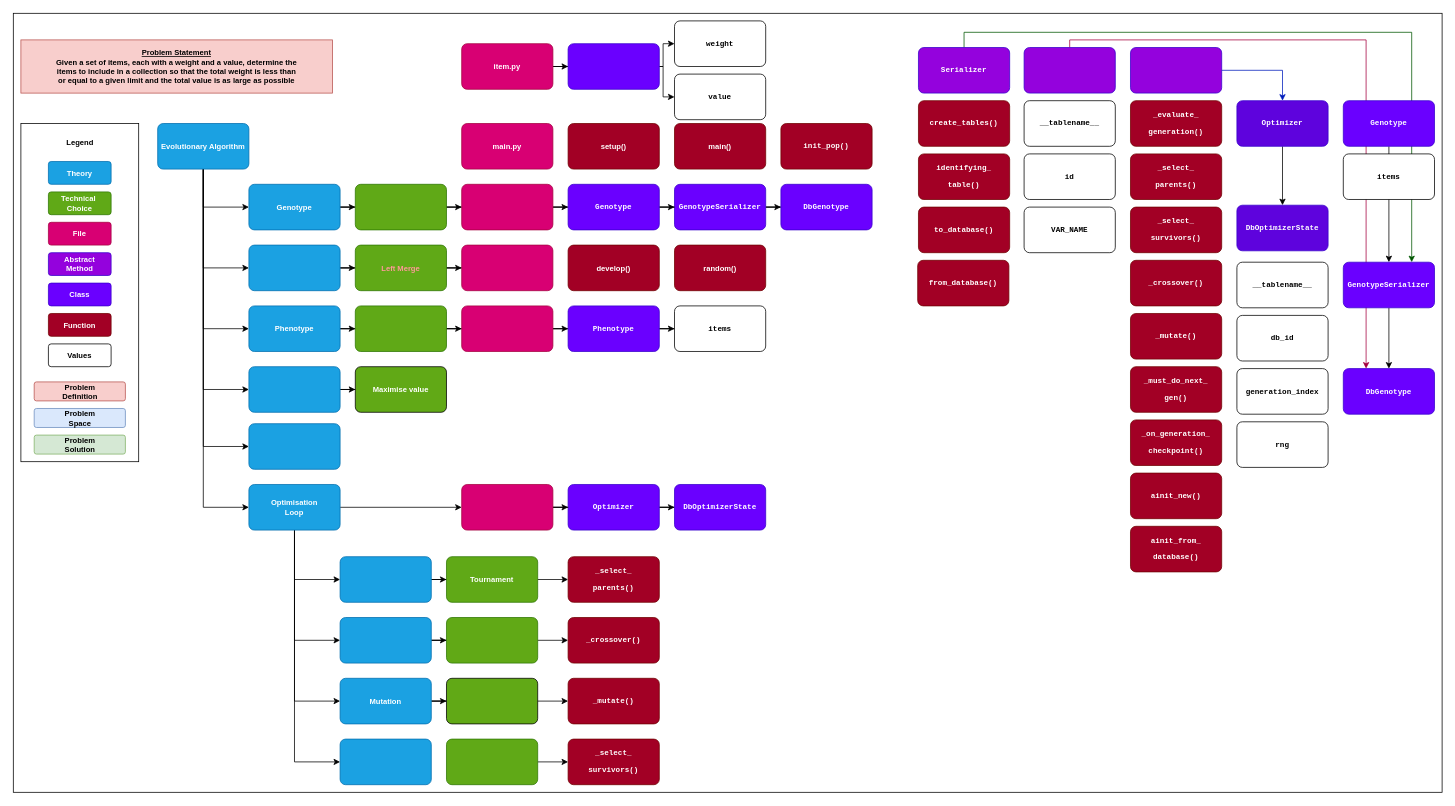
The diagram is 1455 pixels wide and 806 high, and some of its shapes have lost their labels. Here are the shapes that lost their labels. From the top down, the centre of each, then its label:
At (x=613, y=66): "Item".
At (x=1069, y=70): "DbBase".
At (x=1176, y=70): "EAOptimizer".
At (x=400, y=207): "Binary String".
At (x=507, y=207): "genotype.py".
At (x=294, y=267): "Synthesizer".
At (x=507, y=267): "synth.py".
At (x=400, y=328): "Binary String + Weight Restriction".
At (x=507, y=328): "phenotype.py".
At (x=294, y=389): "Fitness Function".
At (x=294, y=446): "Initial Population Generation".
At (x=507, y=507): "optimzer.py".
At (x=385, y=579): "Parent Selection".
At (x=385, y=640): "Crossover".
At (x=492, y=640): "One Point Crossover".
At (x=492, y=701): "Random Bit Flip".
At (x=385, y=761): "Survivor Selection".
At (x=492, y=761): "( μ + λ) & Tournament".
